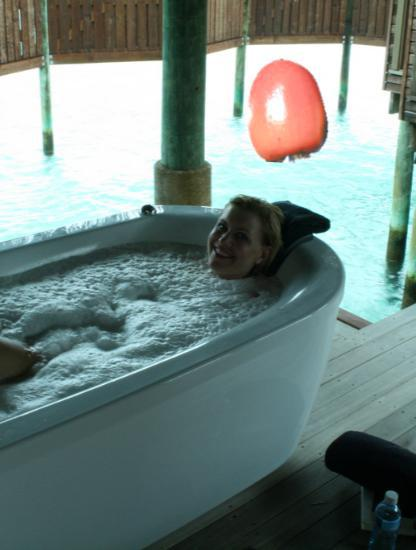Kaki: (237, 58, 342, 163)
